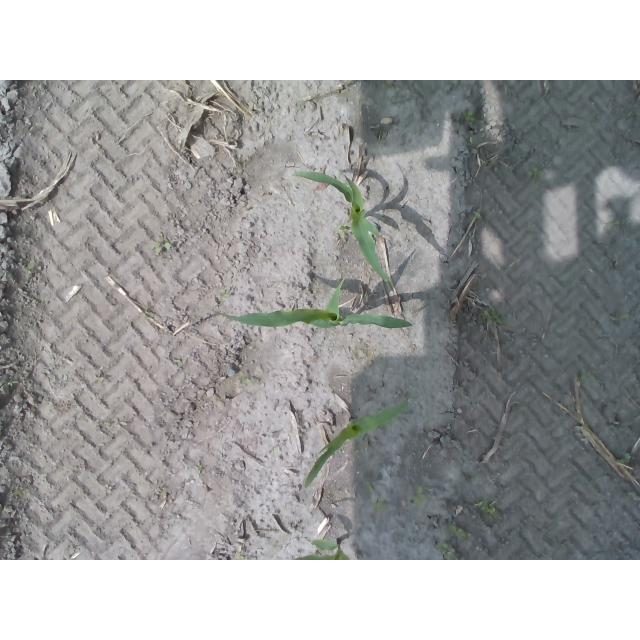Maize: (290, 168, 394, 283), (207, 278, 413, 331), (303, 393, 410, 487), (295, 536, 353, 560)
Weeds: (434, 542, 461, 560), (450, 523, 471, 541), (475, 499, 498, 514), (484, 308, 504, 325), (413, 485, 428, 503), (609, 311, 632, 322), (151, 240, 171, 252), (527, 166, 544, 178), (462, 111, 474, 122), (338, 224, 350, 235), (219, 287, 231, 297), (235, 554, 246, 560)
